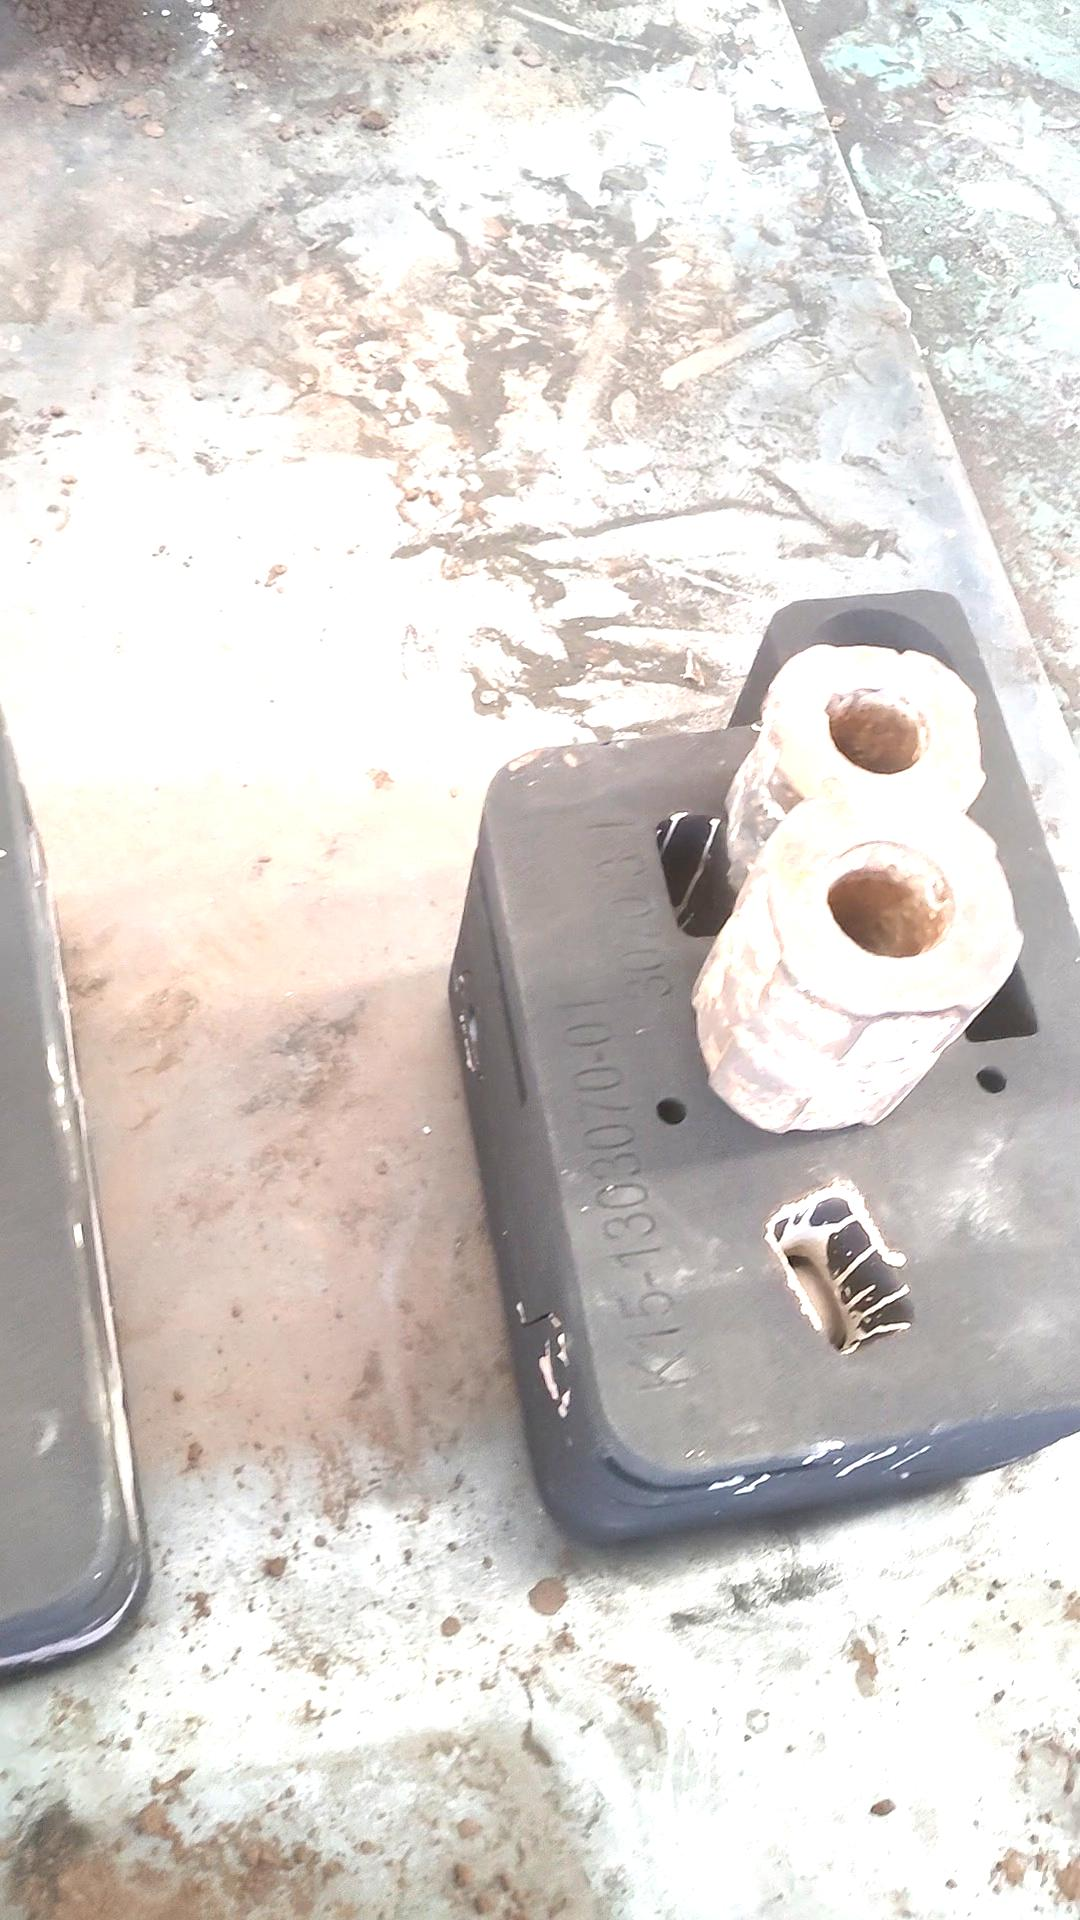pouring hole: (803, 607, 957, 720)
